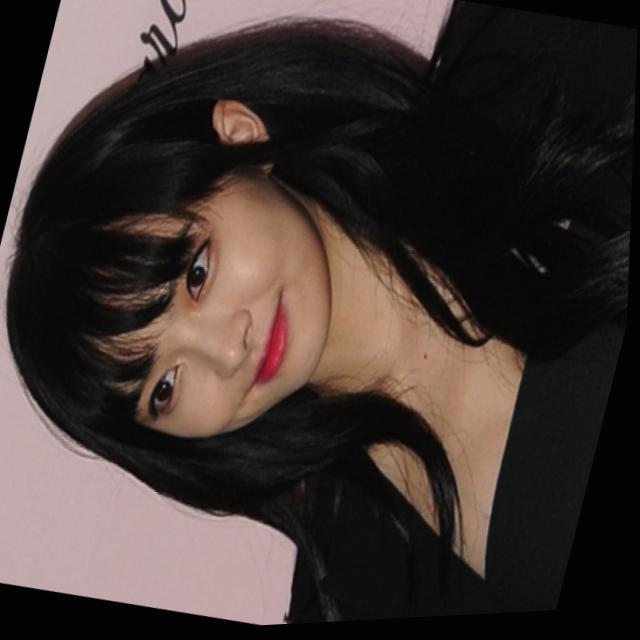face: (0, 32, 420, 492)
